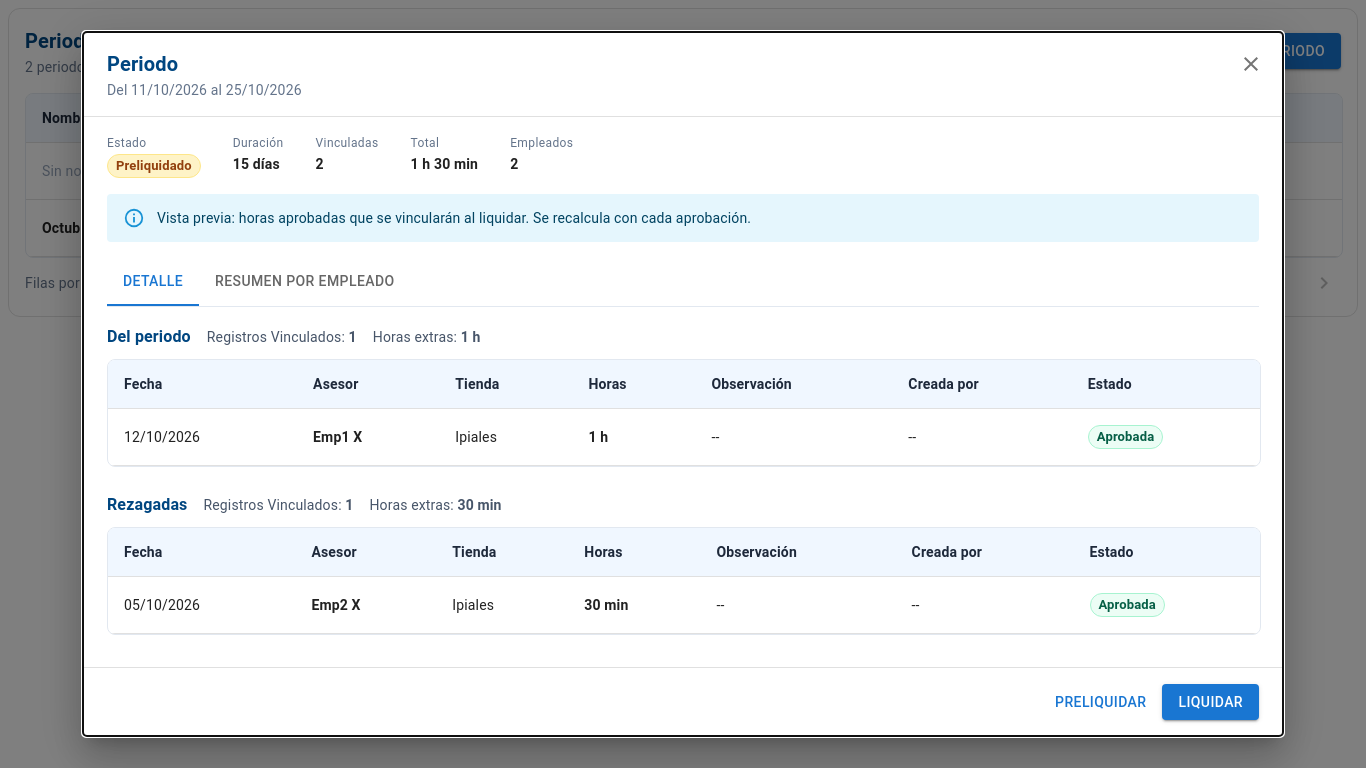
Scenario: PeriodosPage › preliquidar y liquidar (F4) › preliquidar muestra las horas aprobadas entre medias
Expected: the text "Emp1 X" is shown, [313,429,362,445]
Click the button "Preliquidar".
click(1101, 702)  # box [1047,684,1154,720]
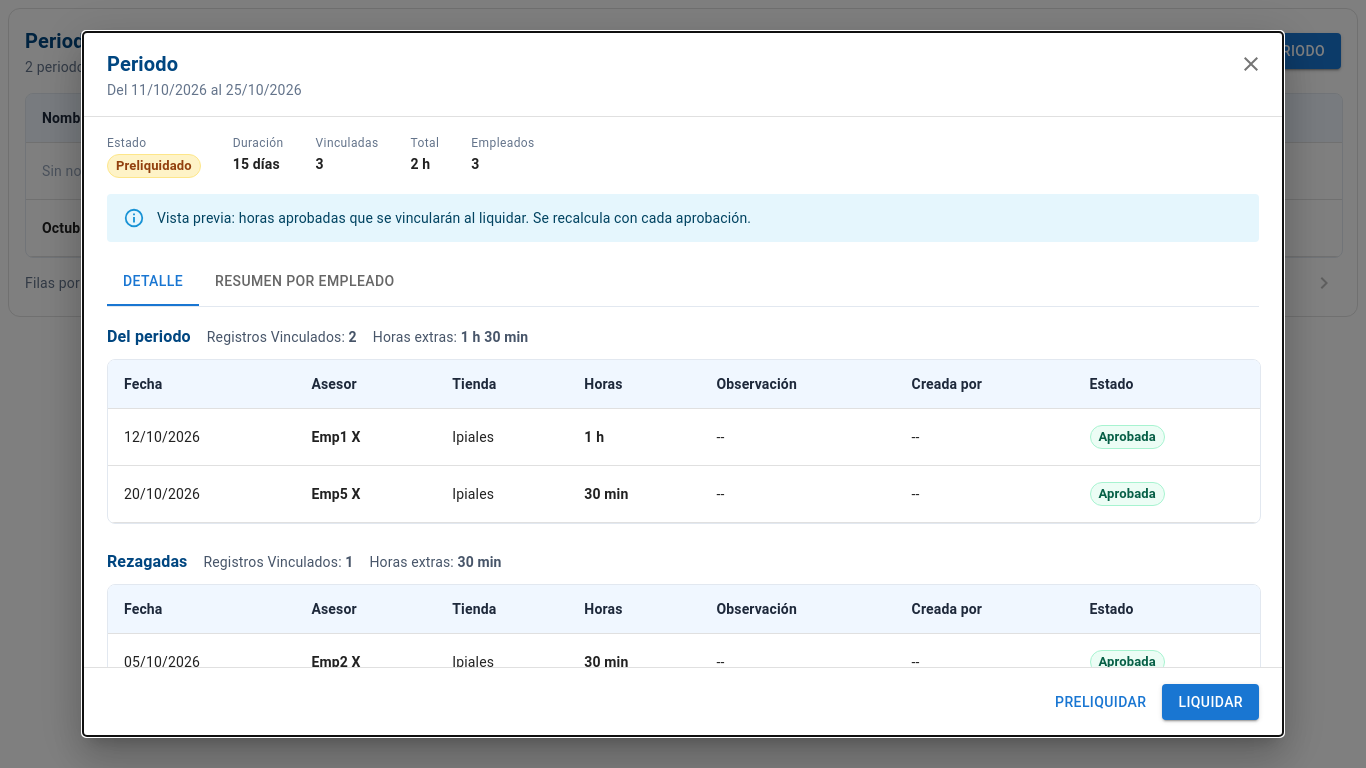
Expected: the text "Emp5 X" is shown, [311,486,361,502]
